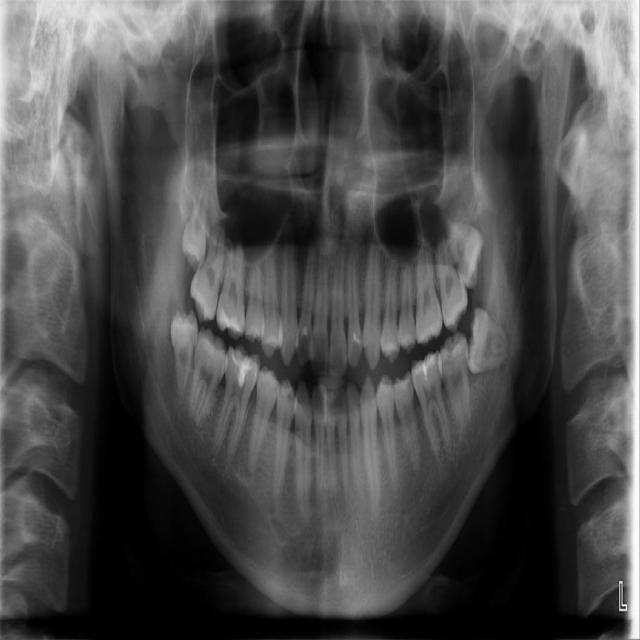Filling: (226, 345, 260, 393), (217, 307, 240, 334), (297, 326, 311, 346), (349, 331, 361, 351)
impacted tooth: (445, 213, 483, 287), (469, 307, 512, 372), (182, 182, 209, 266), (171, 311, 196, 400)
